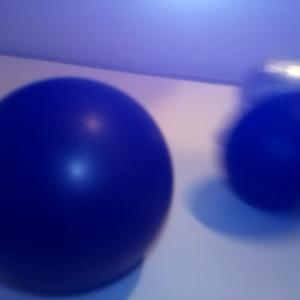alive_ball: (241, 58, 300, 122)
dead_ball: (1, 78, 172, 296), (224, 93, 300, 215)
